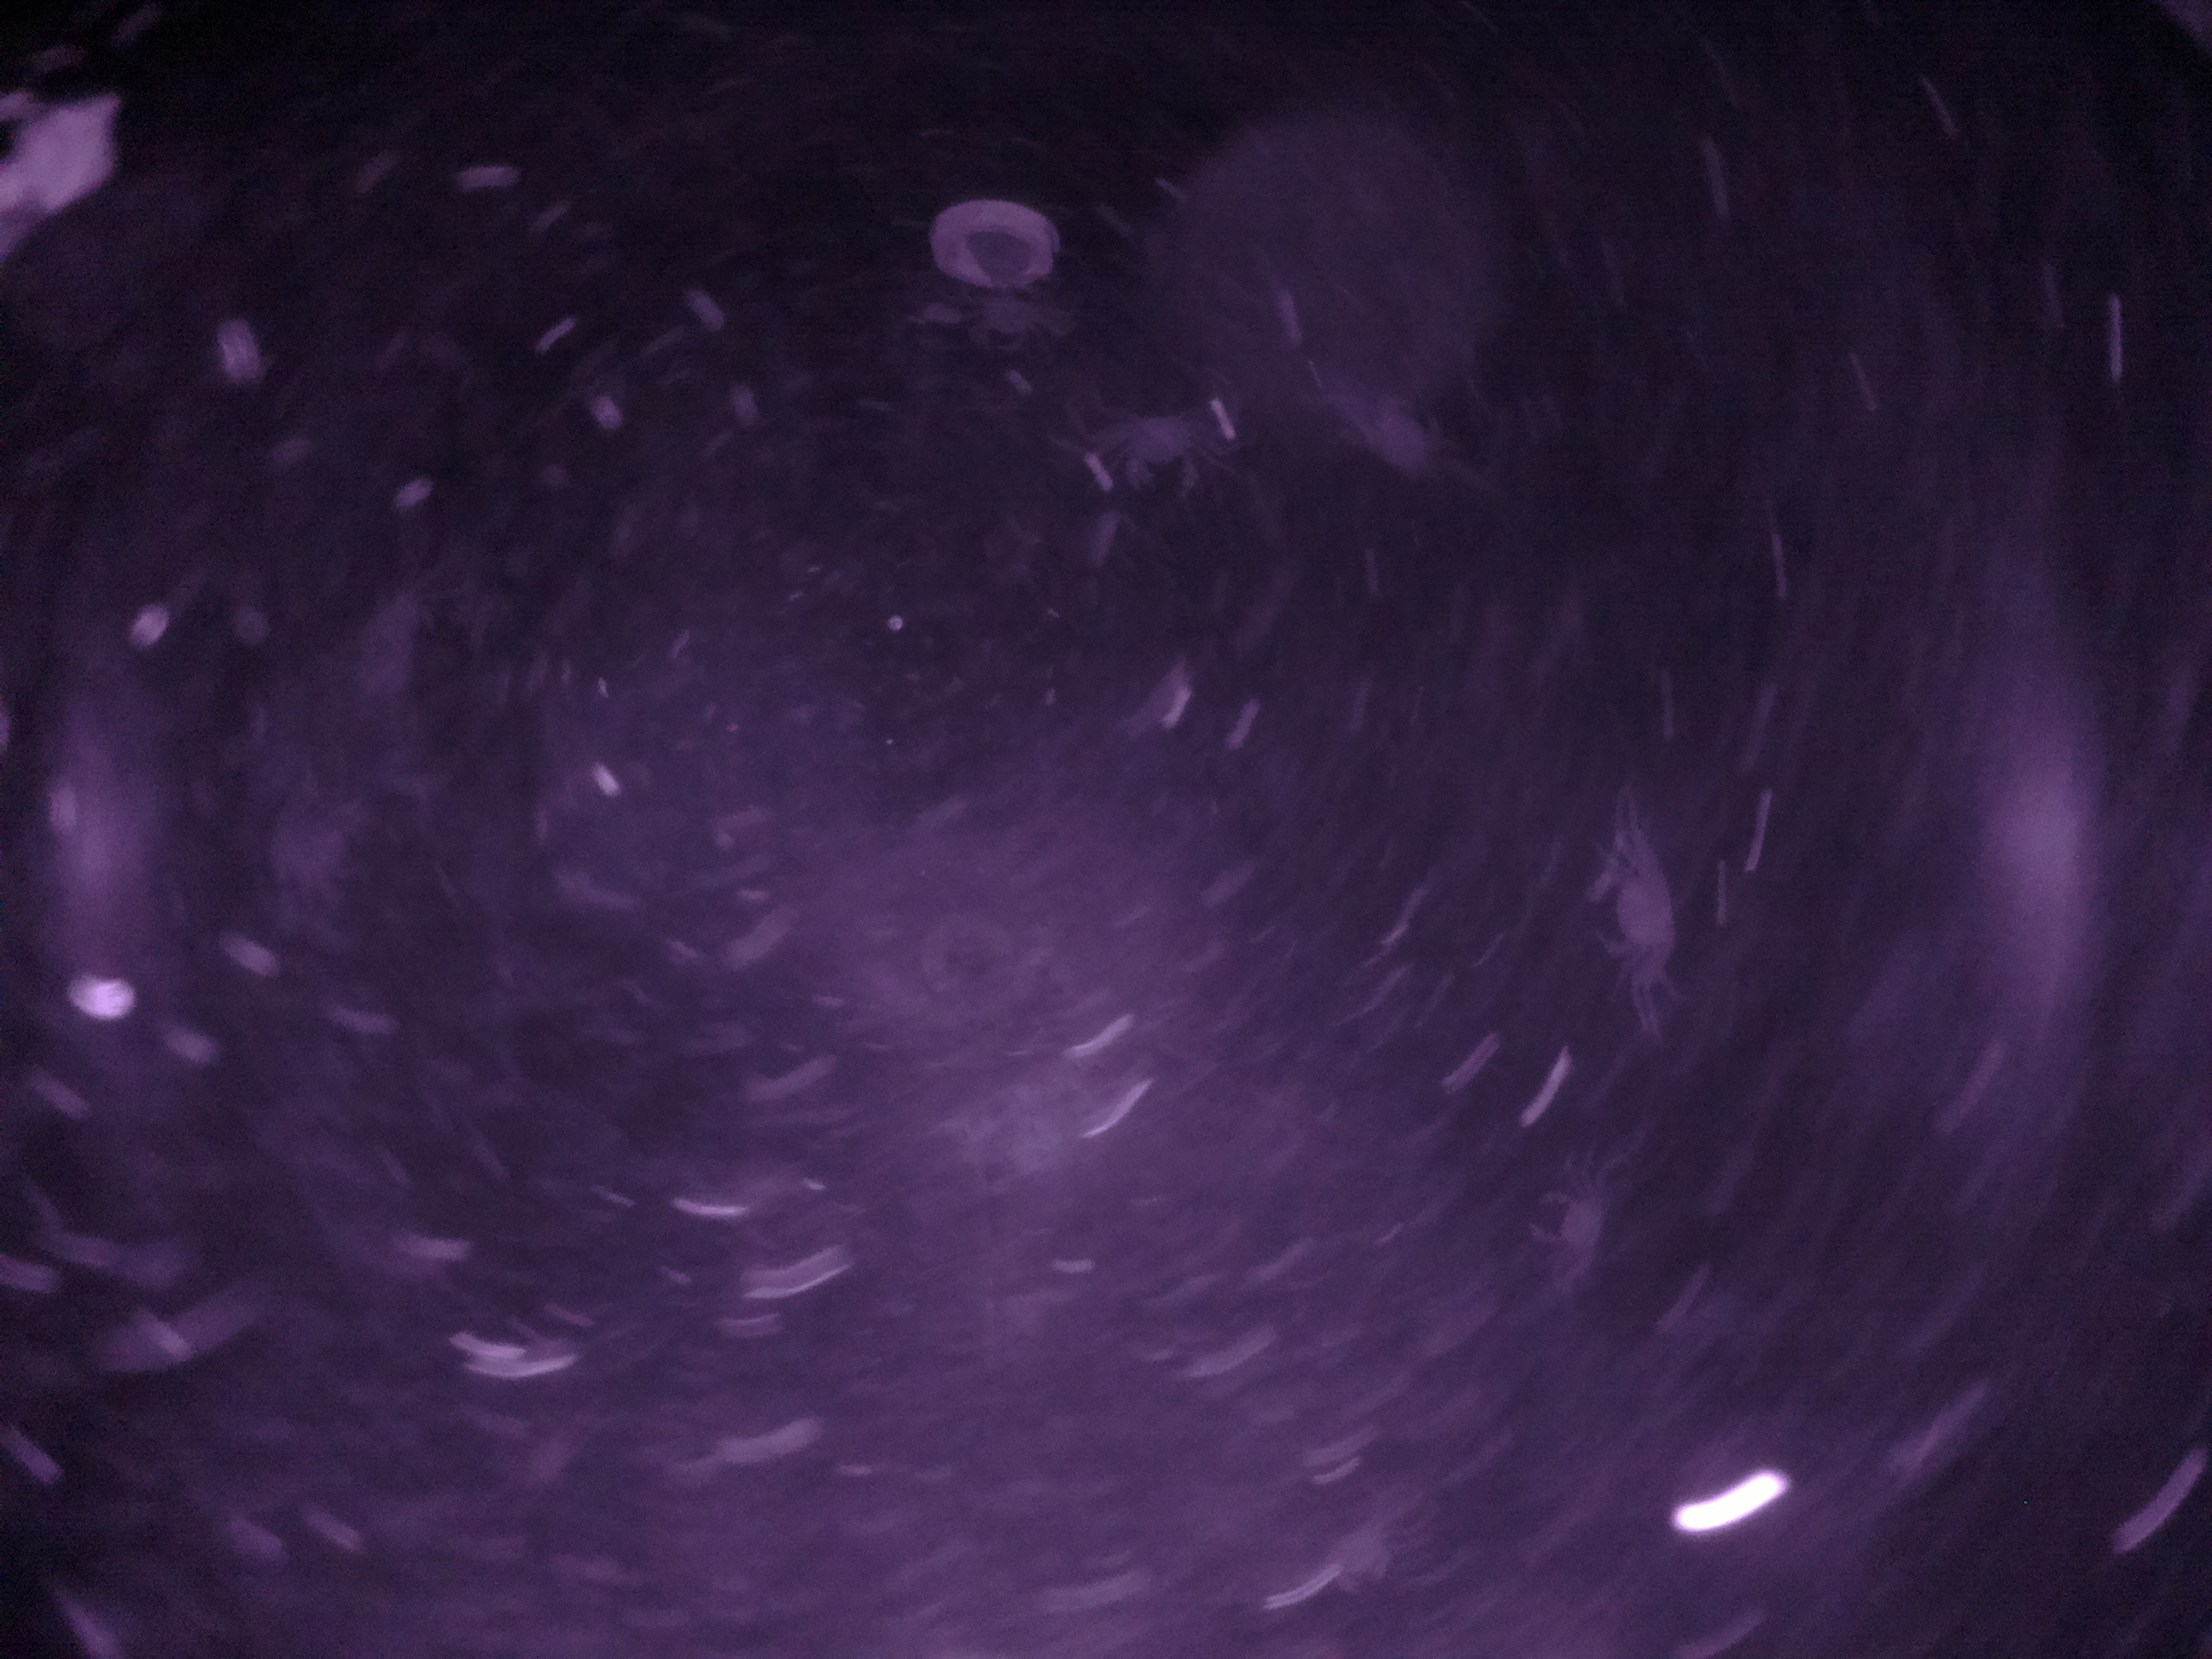Crab: (1566, 836, 1709, 986)
